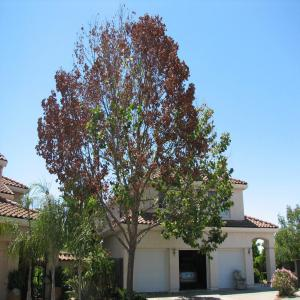Vehicle-registration-plate: (187, 276, 192, 279)
